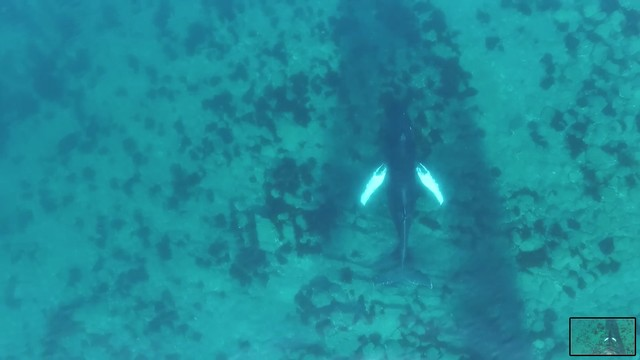whale: (353, 102, 452, 296)
